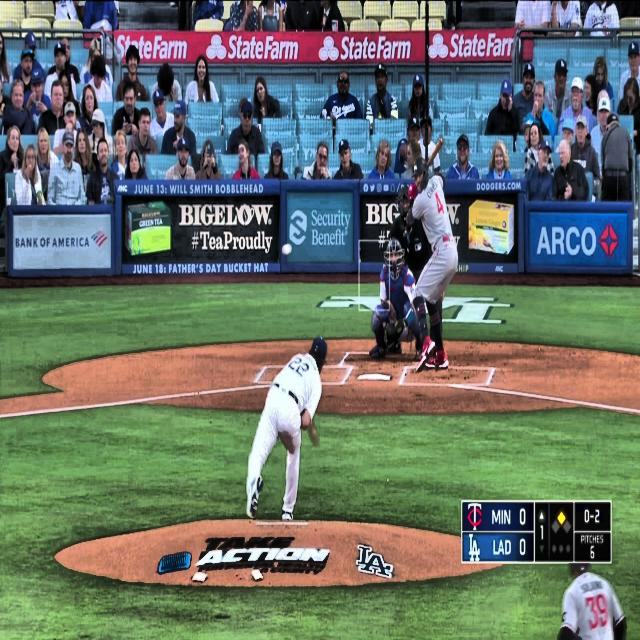baseball: (281, 242, 292, 256)
